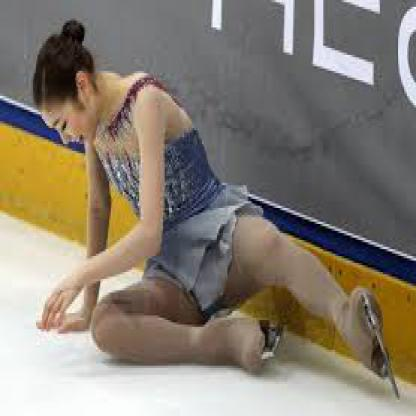Fall_Down: (28, 18, 391, 380)
